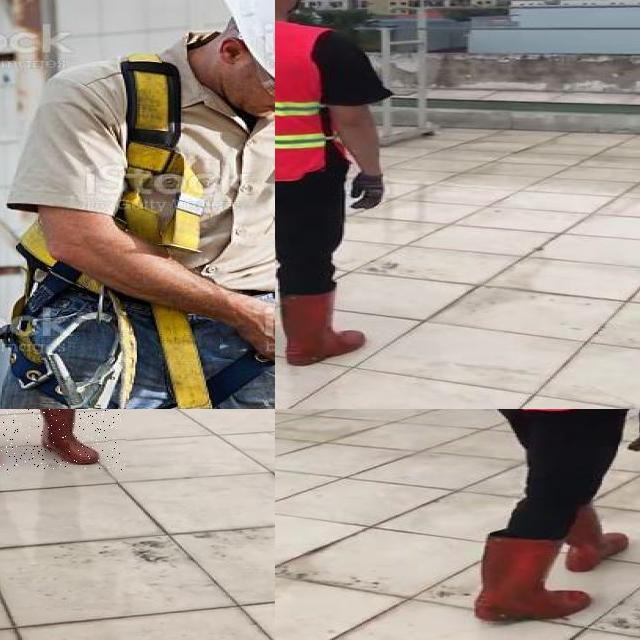Harness: (116, 59, 210, 409), (38, 311, 121, 409)
boots: (480, 532, 590, 621), (275, 290, 369, 367), (559, 507, 629, 572), (32, 409, 108, 465)
hand_glove: (351, 173, 390, 213), (632, 409, 640, 452)
person: (275, 0, 406, 369), (436, 409, 640, 632)
vest: (275, 18, 329, 182)
